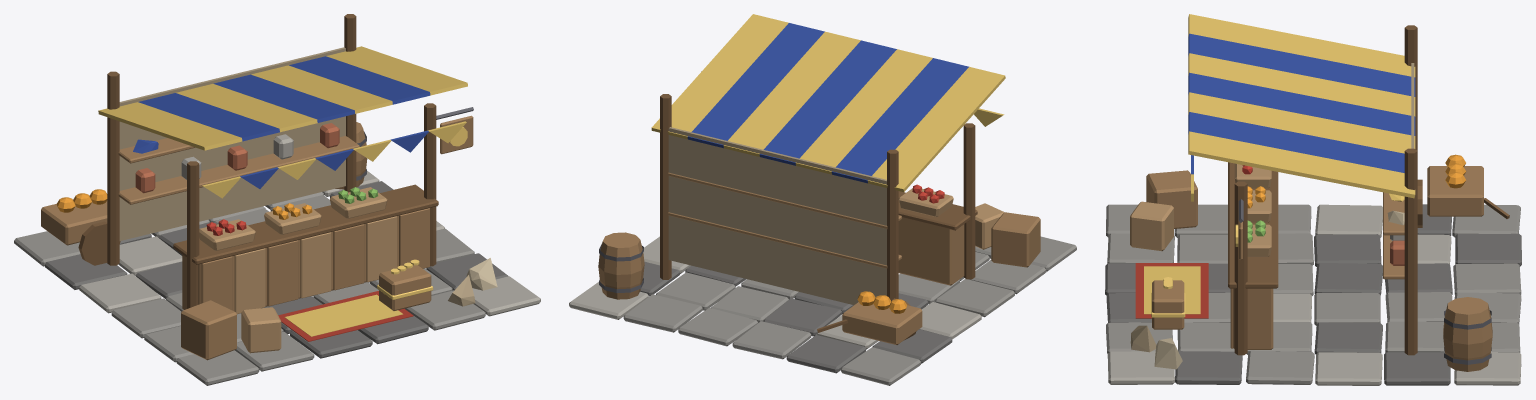
The model's file is market_3.glb.
3 renders of one model, left to right at view 1: azimuth 30°, elevation 25°; view 2: azimuth 150°, elevation 25°; view 3: azimuth 270°, elevation 25°, orthographic. The views are drawn at different scales.
Visible parts, largest first — view 1: Market; view 2: Market; view 3: Market.
Part boxes in pixels (x1,y1,x2,y2): Market: [14, 14, 540, 385]; Market: [569, 14, 1076, 385]; Market: [1105, 14, 1521, 385].
Bounding box in the file's own units: 5.16 × 2.94 × 5.14.
